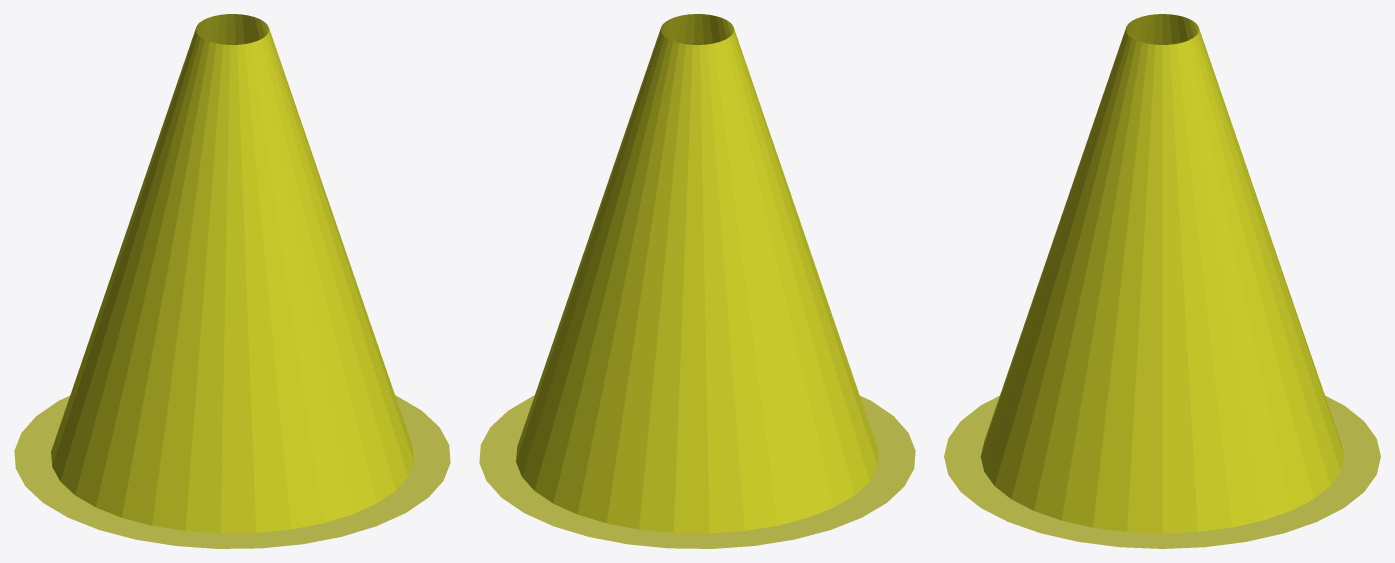
File: uzun_koni.fbx
The picture shows the model from 3 angles, left to right: view 1: azimuth 30°, elevation 25°; view 2: azimuth 150°, elevation 25°; view 3: azimuth 270°, elevation 25°; orthographic projection.
Parts seen in each view (by area): view 1: Cone, Cone.001; view 2: Cone, Cone.001; view 3: Cone, Cone.001.
Part boxes in pixels (left/top/right/bottom): Cone: left=14, top=14, right=450, bottom=548; Cone.001: left=51, top=14, right=413, bottom=532; Cone: left=479, top=14, right=915, bottom=548; Cone.001: left=516, top=15, right=878, bottom=532; Cone: left=944, top=14, right=1380, bottom=548; Cone.001: left=981, top=14, right=1343, bottom=533.
Bounding box in the file's own units: 240 × 259 × 240.
